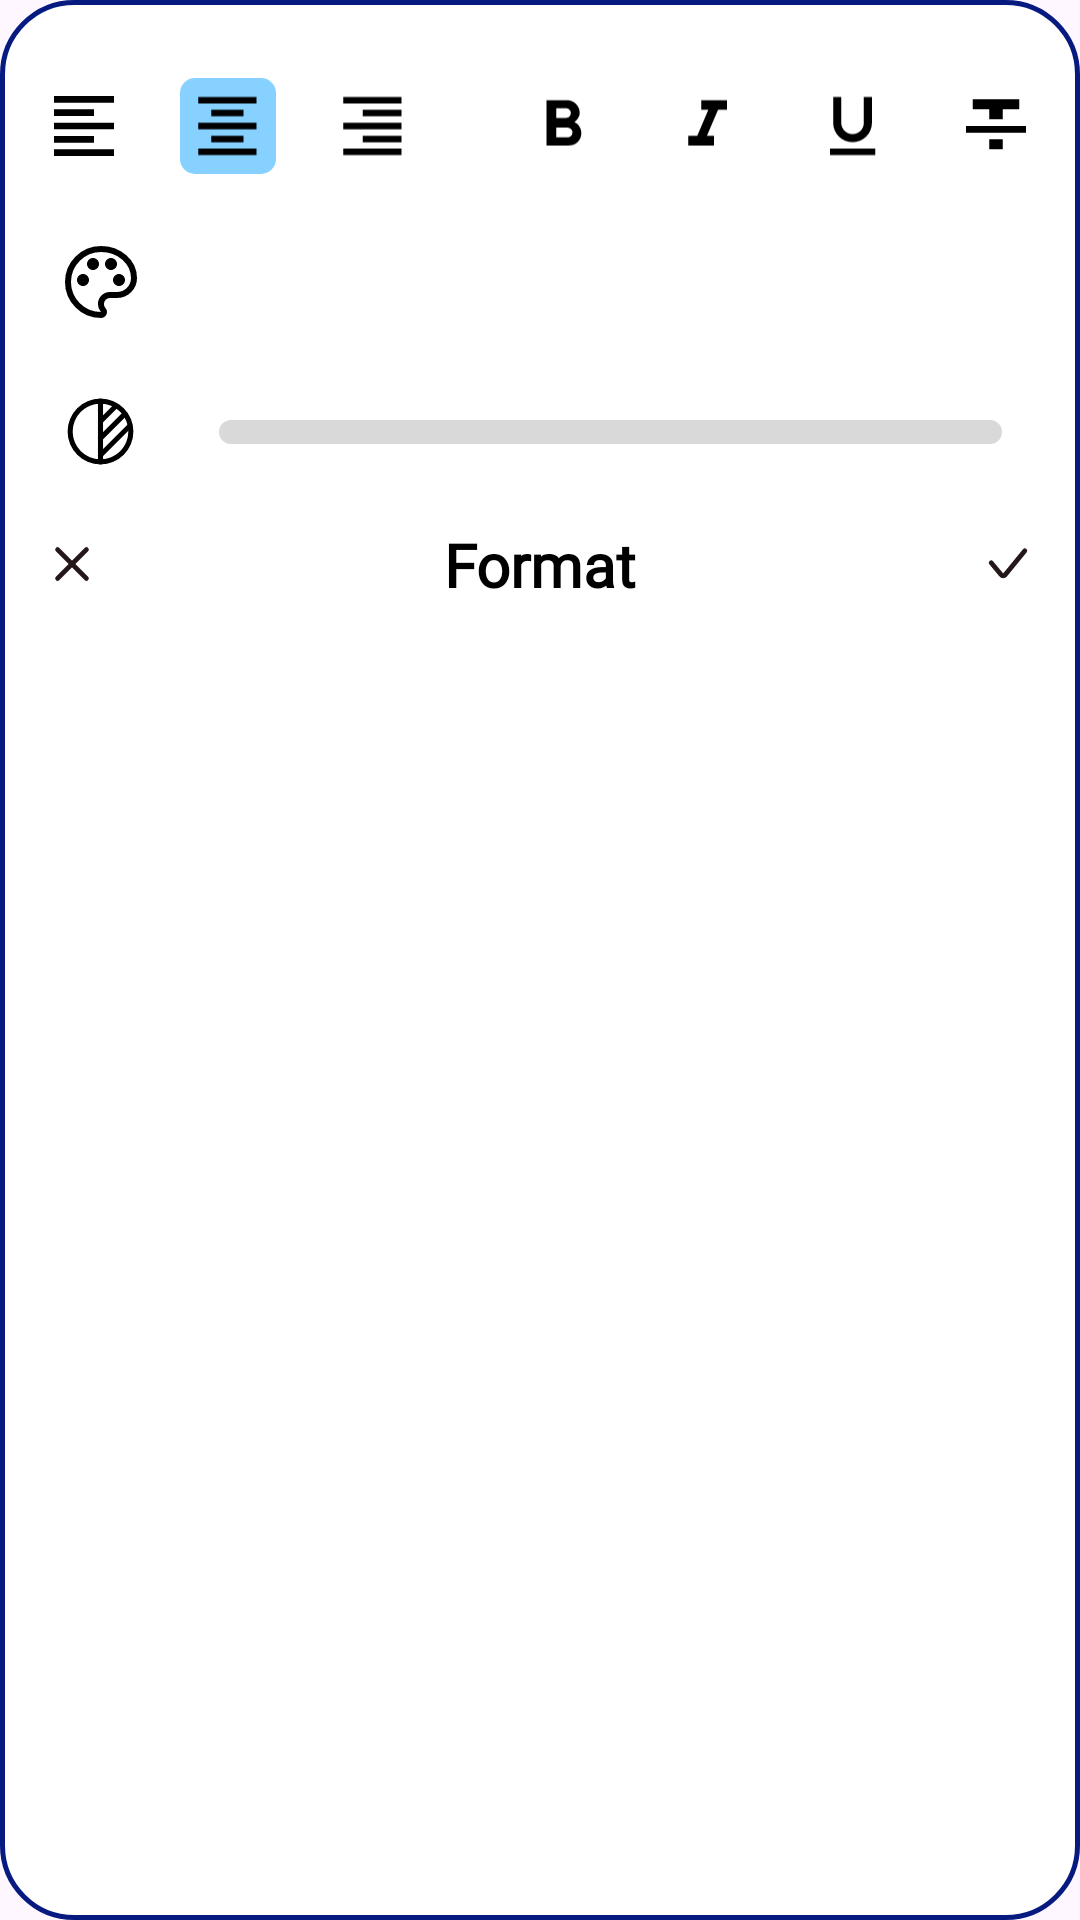

Screen size 1080 × 1920. Icon name, then its box in pixels as (x1, y1, x2, y2):
align center: (180, 78, 276, 174)
align opposite: (343, 96, 402, 156)
align start: (54, 96, 114, 156)
italic: (688, 99, 727, 146)
line central: (966, 99, 1026, 150)
underline: (830, 96, 876, 156)
